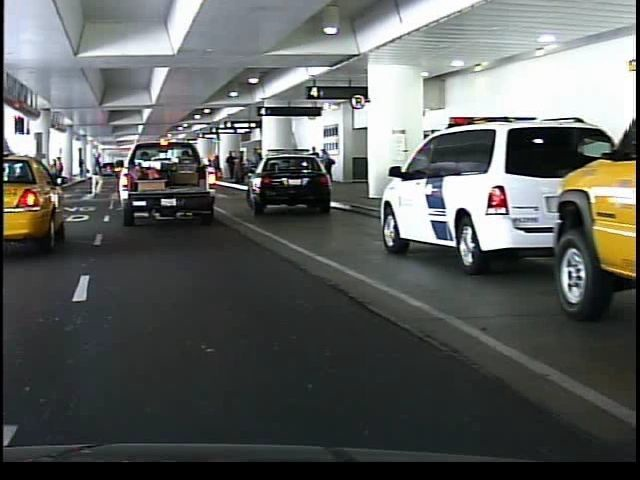person: (84, 152, 104, 199)
